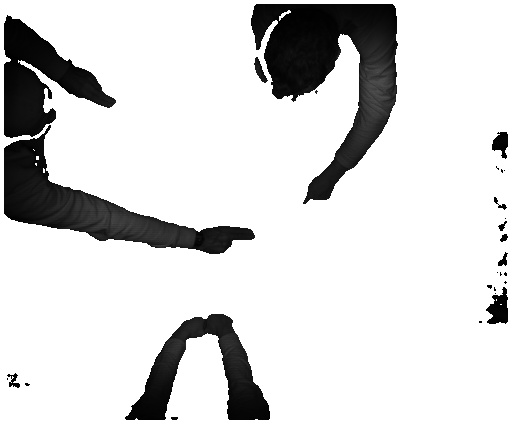fist: (178, 312, 210, 343), (206, 312, 238, 342)
hand: (67, 70, 119, 111), (204, 224, 255, 255), (297, 173, 337, 207)
